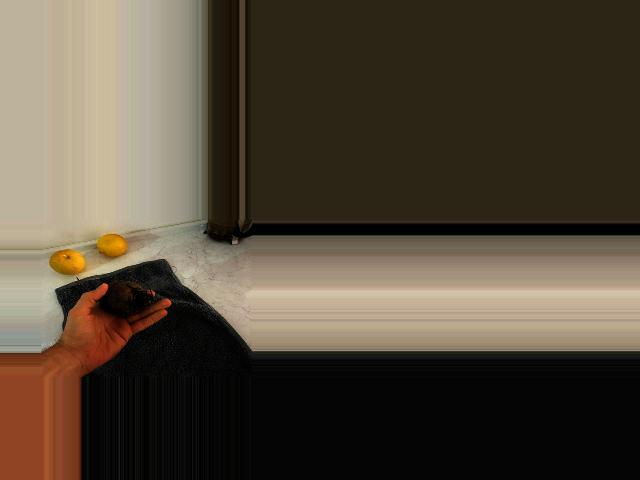beet: (76, 277, 152, 316)
